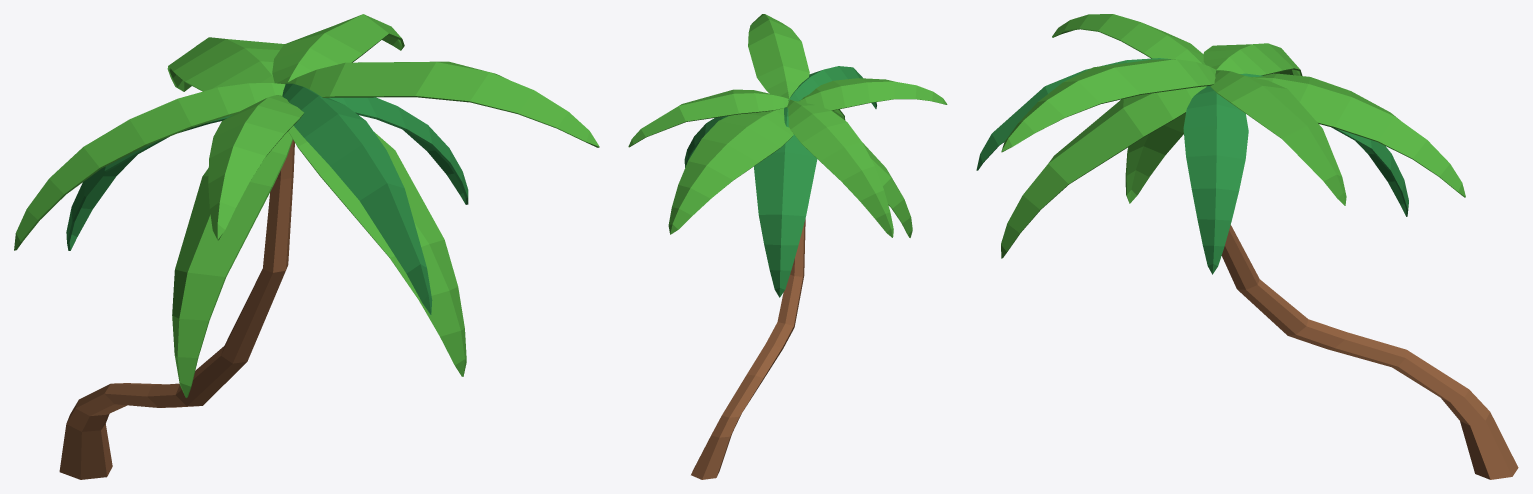
The model's file is palm-curly.glb.
3 renders of one model, left to right at view 1: azimuth 30°, elevation 25°; view 2: azimuth 150°, elevation 25°; view 3: azimuth 270°, elevation 25°, orthographic. The views are drawn at different scales.
Visible parts, largest first — view 1: PalmTree_2; view 2: PalmTree_2; view 3: PalmTree_2.
Boxes of the visible parts, left/top/right/bottom form: PalmTree_2: left=14, top=14, right=599, bottom=479; PalmTree_2: left=628, top=14, right=947, bottom=479; PalmTree_2: left=976, top=14, right=1518, bottom=479.
Bounding box in the file's own units: 4.64 × 5.82 × 6.36.
